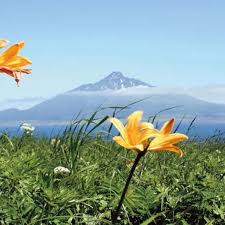field: (11, 130, 221, 224)
flower: (104, 107, 183, 220)
mountain: (32, 73, 219, 114)
sky: (2, 1, 221, 77)
